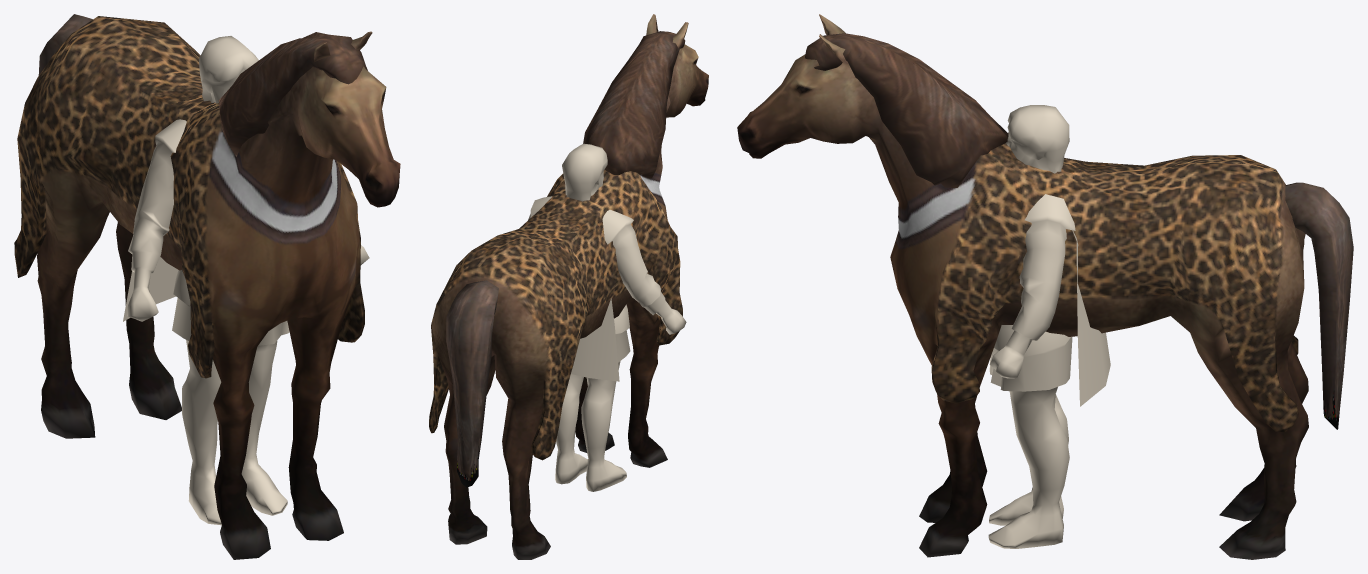
Rendered from 36-hetairos.glb.
3 views of the same model, side by side, from view 1: azimuth 30°, elevation 25°; view 2: azimuth 150°, elevation 25°; view 3: azimuth 270°, elevation 25° (orthographic). The views are drawn at different scales.
Size of the model in its own units: 1.14 by 2.52 by 2.77.
Materials: 2 (1 with a texture image).
